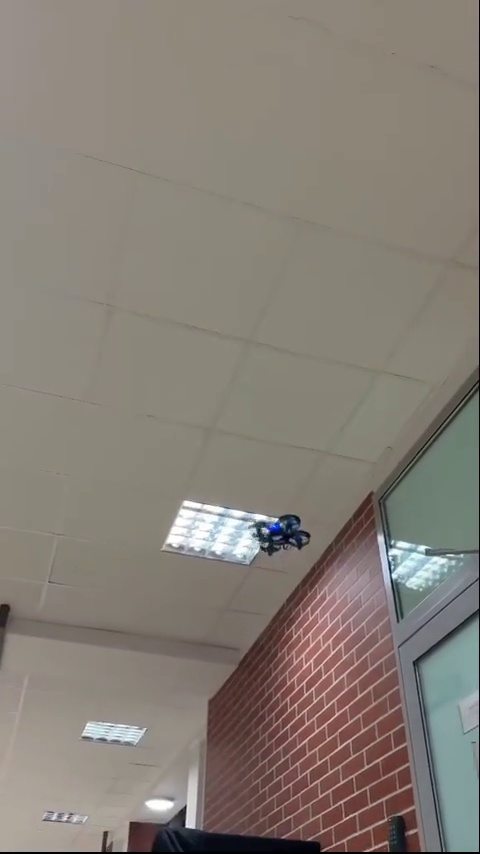drone: (246, 515, 313, 554)
